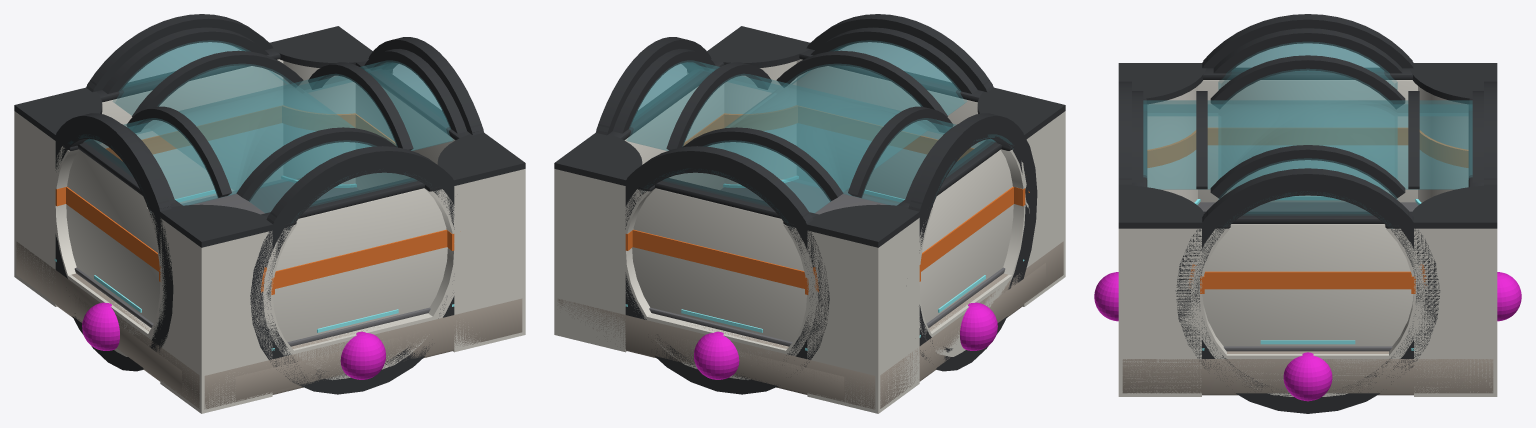
File: tunnel_4.gltf
The picture shows the model from 3 angles, left to right: view 1: azimuth 30°, elevation 25°; view 2: azimuth 150°, elevation 25°; view 3: azimuth 270°, elevation 25°; orthographic projection.
Visible parts, largest first — view 1: TunnelJunction, %V%AnchorIn-, %V%AnchorIn.001-, %V%AnchorIn+, %V%AnchorIn.003-, %V%AnchorIn.003+, %V%AnchorIn.002-, %V%AnchorIn.001+, %V%AnchorIn.002+, %P%AnchorIn, %P%AnchorIn.003; view 2: TunnelJunction, %V%AnchorIn.001-, %V%AnchorIn-, %V%AnchorIn.001+, %V%AnchorIn.003-, %V%AnchorIn.003+, %V%AnchorIn.002-, %V%AnchorIn+, %V%AnchorIn.002+, %P%AnchorIn.001, %P%AnchorIn.003; view 3: TunnelJunction, %V%AnchorIn.002-, %V%AnchorIn.003-, %V%AnchorIn.002+, %V%AnchorIn.003+, %P%AnchorIn.002, %V%AnchorIn.001+, %V%AnchorIn+, %V%AnchorIn.001-, %V%AnchorIn-, %P%AnchorIn, %P%AnchorIn.001.
Boxes of the visible parts, x1,y1,x2,y2 form: TunnelJunction: (14, 26, 525, 413); %V%AnchorIn-: (261, 172, 447, 342); %V%AnchorIn.001-: (96, 27, 283, 203); %V%AnchorIn+: (235, 146, 454, 400); %V%AnchorIn.003-: (66, 124, 182, 323); %V%AnchorIn.003+: (55, 113, 181, 394); %V%AnchorIn.002-: (355, 49, 474, 189); %V%AnchorIn.001+: (86, 14, 273, 92); %V%AnchorIn.002+: (368, 37, 483, 135); %P%AnchorIn: (340, 331, 385, 379); %P%AnchorIn.003: (82, 302, 119, 350); TunnelJunction: (554, 26, 1065, 413); %V%AnchorIn.001-: (632, 172, 818, 342); %V%AnchorIn-: (796, 27, 983, 203); %V%AnchorIn.001+: (625, 146, 844, 400); %V%AnchorIn.003-: (897, 124, 1013, 323); %V%AnchorIn.003+: (908, 113, 1045, 377); %V%AnchorIn.002-: (609, 49, 724, 189); %V%AnchorIn+: (806, 14, 993, 92); %V%AnchorIn.002+: (596, 37, 711, 135); %P%AnchorIn.001: (694, 331, 739, 379); %P%AnchorIn.003: (960, 302, 997, 350); TunnelJunction: (1118, 42, 1497, 396); %V%AnchorIn.002-: (1202, 195, 1413, 346); %V%AnchorIn.003-: (1198, 28, 1417, 202); %V%AnchorIn.002+: (1159, 168, 1456, 413); %V%AnchorIn.003+: (1202, 14, 1413, 68); %P%AnchorIn.002: (1283, 352, 1332, 401); %V%AnchorIn.001+: (1484, 81, 1497, 187); %V%AnchorIn+: (1118, 81, 1131, 187); %V%AnchorIn.001-: (1468, 91, 1483, 187); %V%AnchorIn-: (1132, 91, 1147, 187); %P%AnchorIn: (1094, 272, 1118, 321); %P%AnchorIn.001: (1497, 272, 1521, 321).
Bounding box in the file's own units: 2.26 × 1.4 × 2.26.
